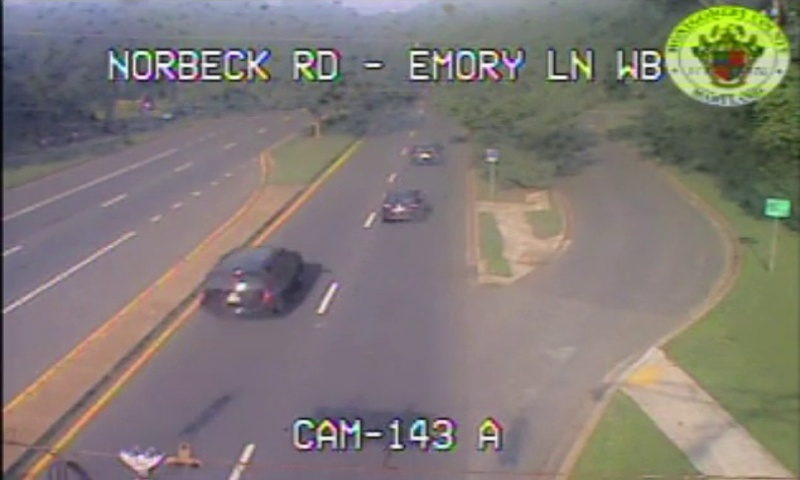car: (203, 245, 302, 318), (381, 190, 422, 219)
